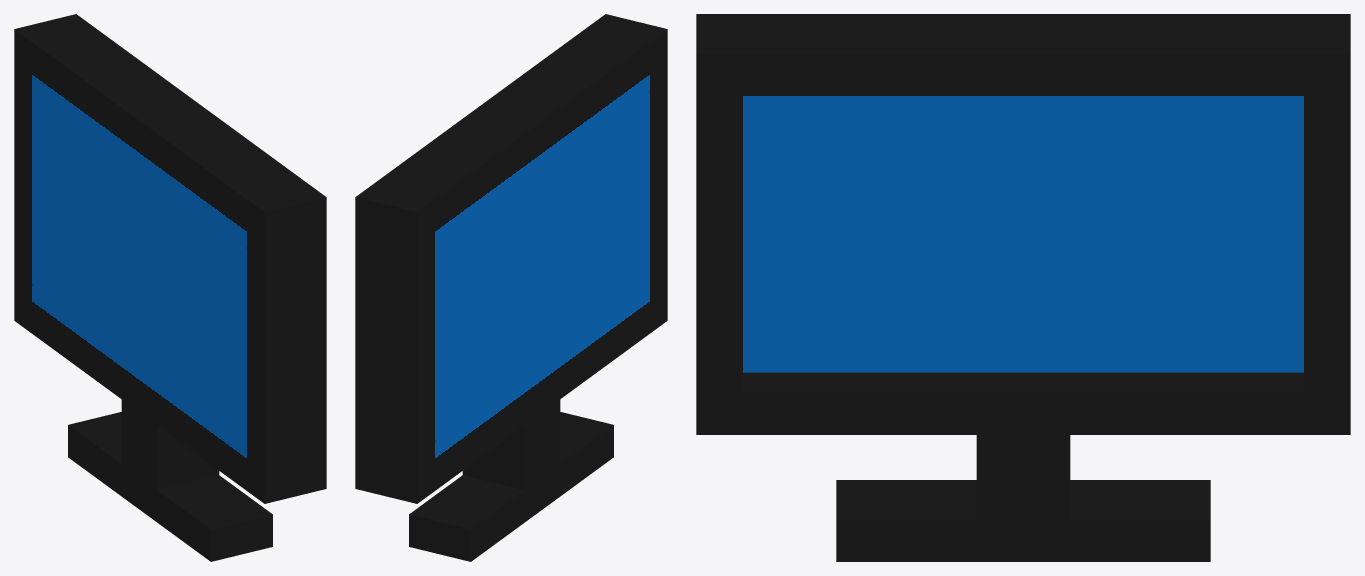
The picture shows the model from 3 angles, left to right: view 1: azimuth 30°, elevation 25°; view 2: azimuth 150°, elevation 25°; view 3: azimuth 270°, elevation 25°; orthographic projection. The views are drawn at different scales.
Visible parts, largest first — view 1: Object; view 2: Object; view 3: Object.
Boxes of the visible parts, x1,y1,x2,y2 form: Object: (14, 14, 326, 561); Object: (355, 14, 667, 561); Object: (696, 14, 1350, 561).
Bounding box in the file's own units: 2 × 12 × 14.
Materials: 1 (1 with a texture image).
